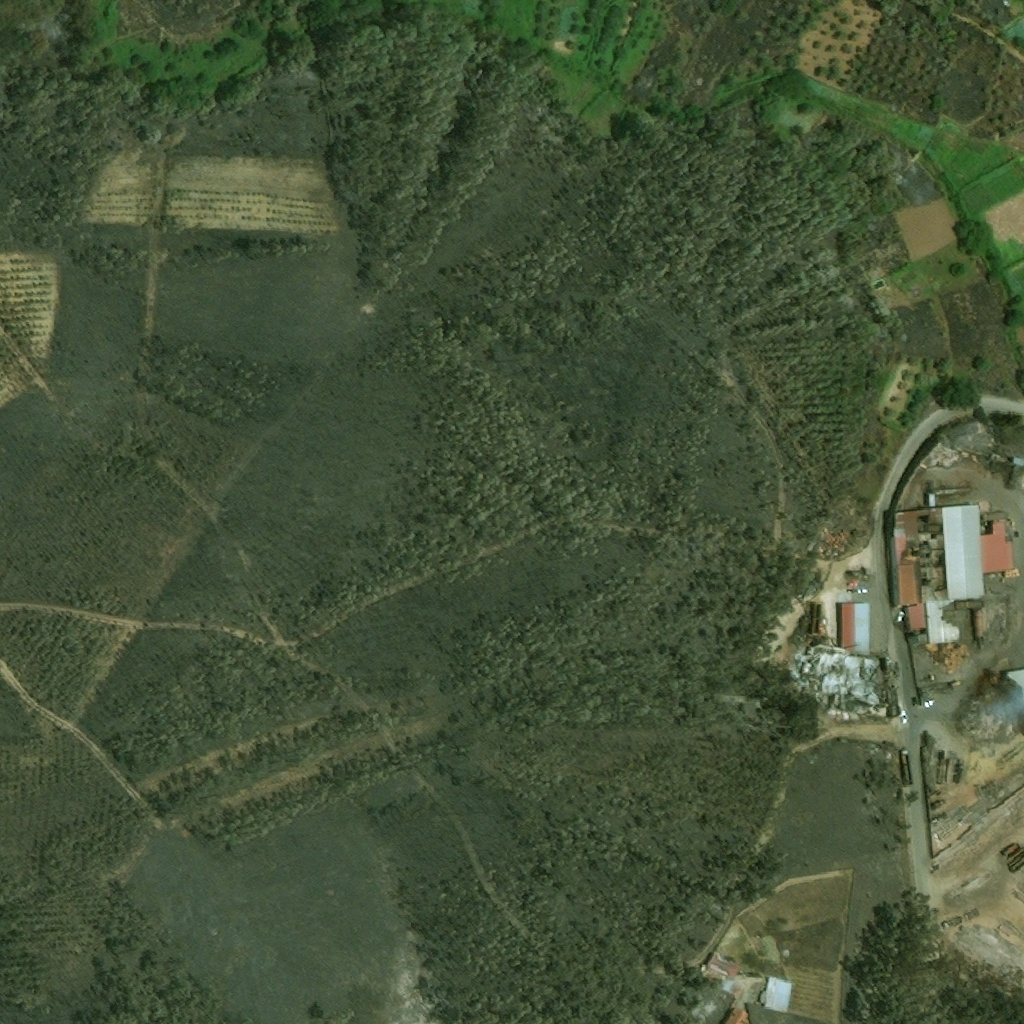0 no-damage: (983, 517, 1015, 576), (891, 562, 921, 604), (760, 977, 791, 1008), (707, 952, 739, 980), (702, 965, 735, 991), (905, 605, 926, 634), (726, 1008, 749, 1023), (908, 633, 927, 645), (929, 493, 936, 506)
2 major-damage: (890, 504, 986, 603), (925, 601, 959, 642)
3 destroyed: (810, 603, 898, 720)
4 un-classified: (1006, 669, 1023, 695), (989, 452, 1000, 463), (1014, 457, 1023, 465)
